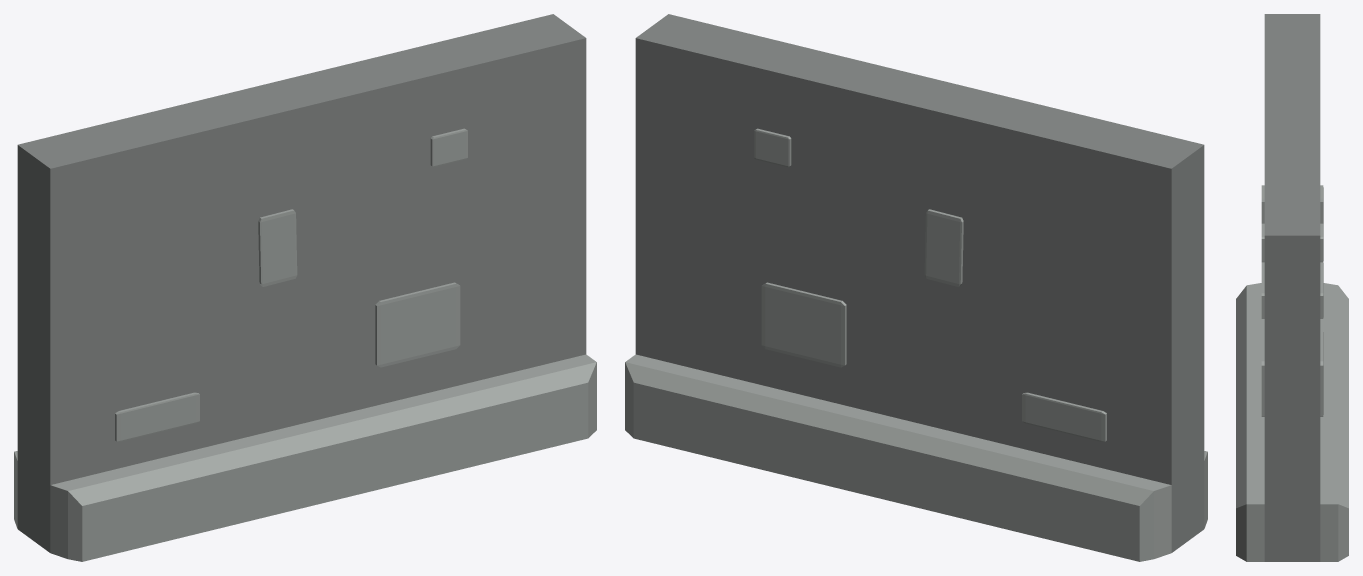
Rendered from Fence3.fbx.
3 views of the same model, side by side, from view 1: azimuth 30°, elevation 25°; view 2: azimuth 150°, elevation 25°; view 3: azimuth 270°, elevation 25° (orthographic). The views are drawn at different scales.
Parts seen in each view (by area): view 1: Fence3; view 2: Fence3; view 3: Fence3.
Part boxes in pixels (box(x1,y1,x2,y2)): Fence3: box(14, 14, 596, 561); Fence3: box(625, 14, 1207, 561); Fence3: box(1236, 14, 1348, 561).
Size of the model in its own units: 128 by 87.67 by 27.49.
